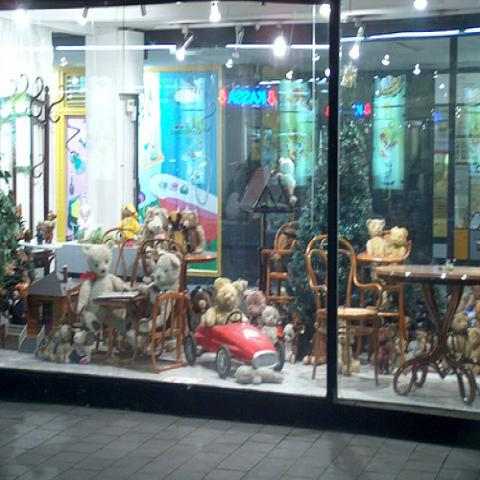car: (185, 312, 284, 379)
